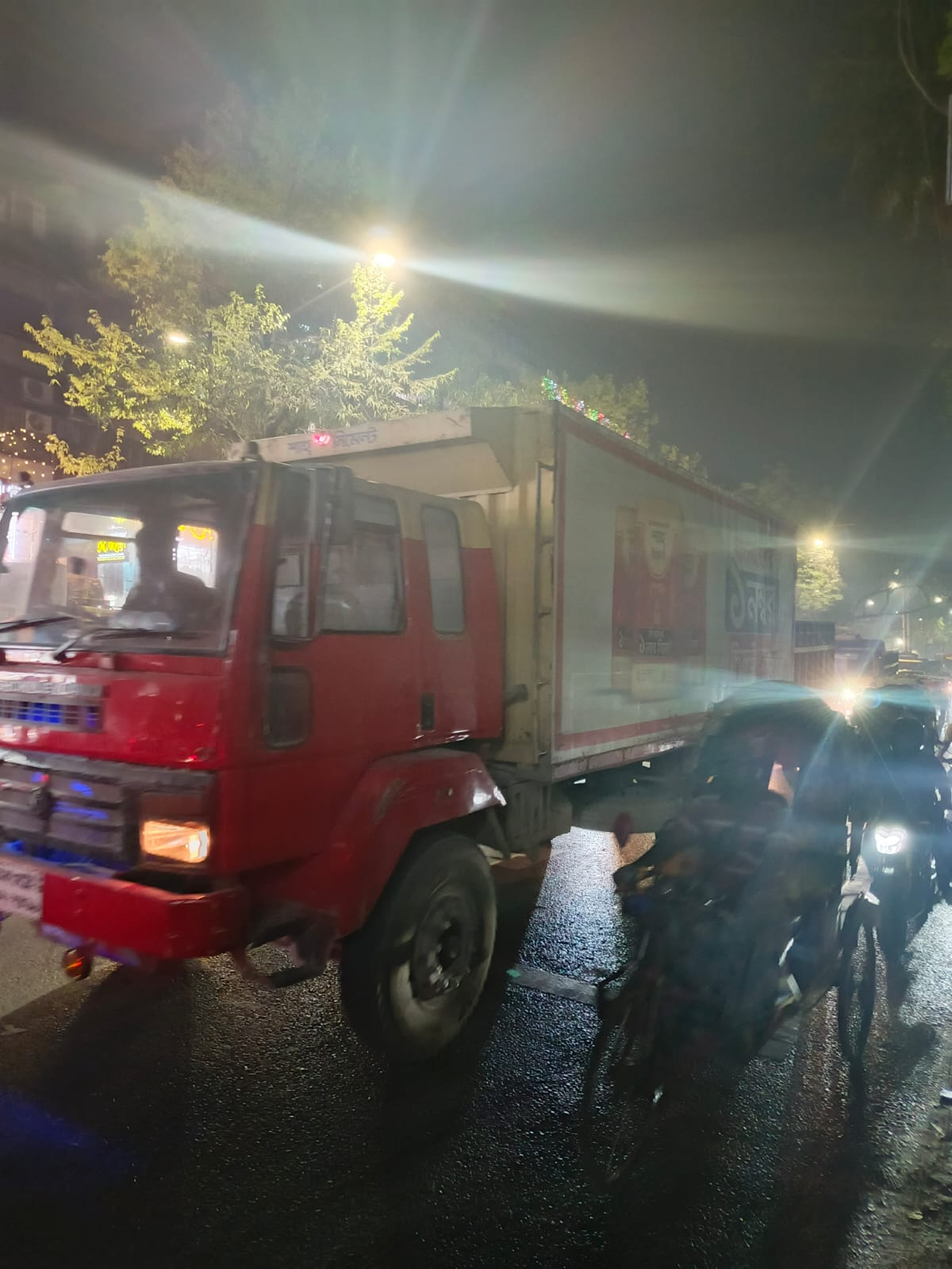Bikes: (854, 691, 952, 1012)
Truck: (16, 246, 817, 1126)
auto-ricksaw: (578, 659, 872, 1221)
